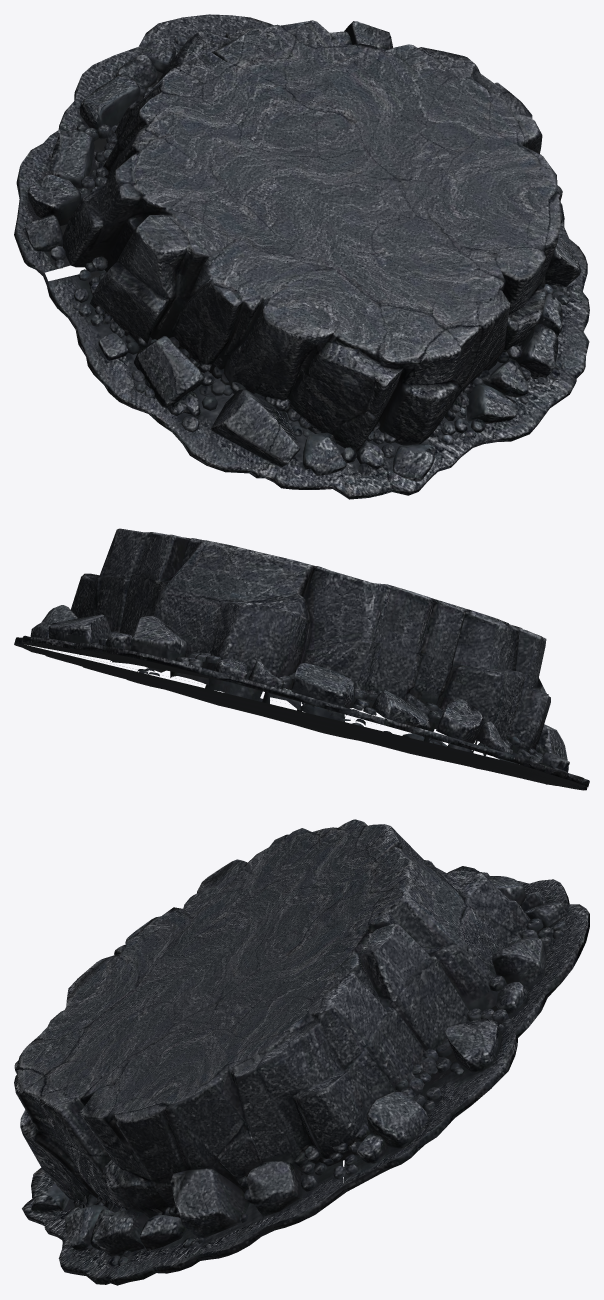
The model's file is 09-silver-contour-base.glb.
3 views of the same model, one above another, from view 1: azimuth 30°, elevation 25°; view 2: azimuth 150°, elevation 25°; view 3: azimuth 270°, elevation 25° (orthographic). The views are drawn at different scales.
Parts seen in each view (by area): view 1: cd01dc15_2808_4ed2_b4f8_35af9306795b; view 2: cd01dc15_2808_4ed2_b4f8_35af9306795b; view 3: cd01dc15_2808_4ed2_b4f8_35af9306795b.
Part boxes in pixels (left/top/right/bottom): cd01dc15_2808_4ed2_b4f8_35af9306795b: left=14, top=14, right=589, bottom=499; cd01dc15_2808_4ed2_b4f8_35af9306795b: left=14, top=528, right=589, bottom=790; cd01dc15_2808_4ed2_b4f8_35af9306795b: left=14, top=819, right=589, bottom=1285.
Bounding box in the file's own units: 0.9995 × 0.6333 × 0.9106.
1 material, 1 textured.
